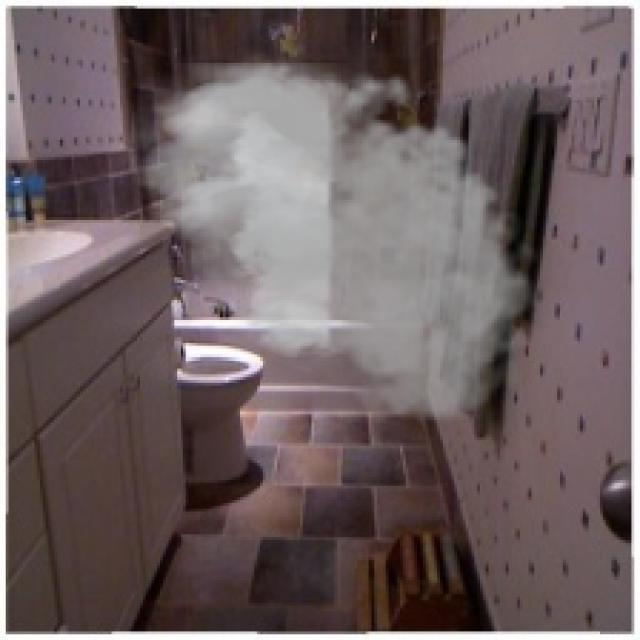Smoke: (132, 49, 552, 428)
